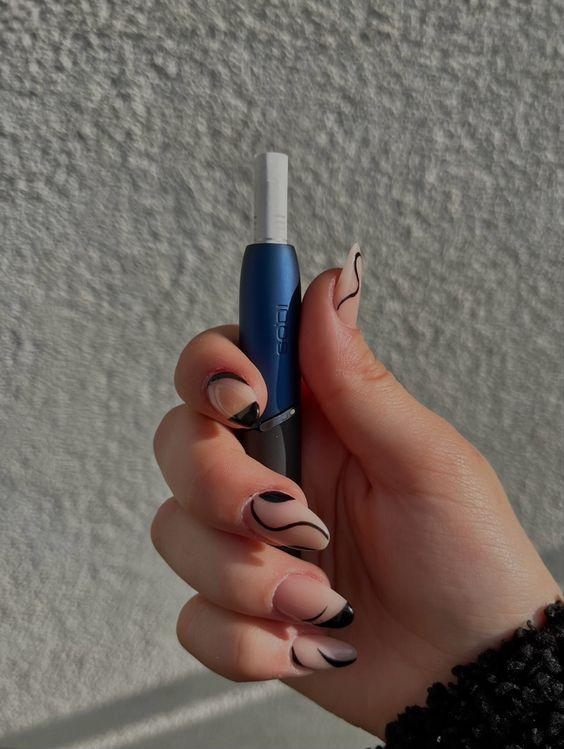iqos: (234, 153, 301, 483)
